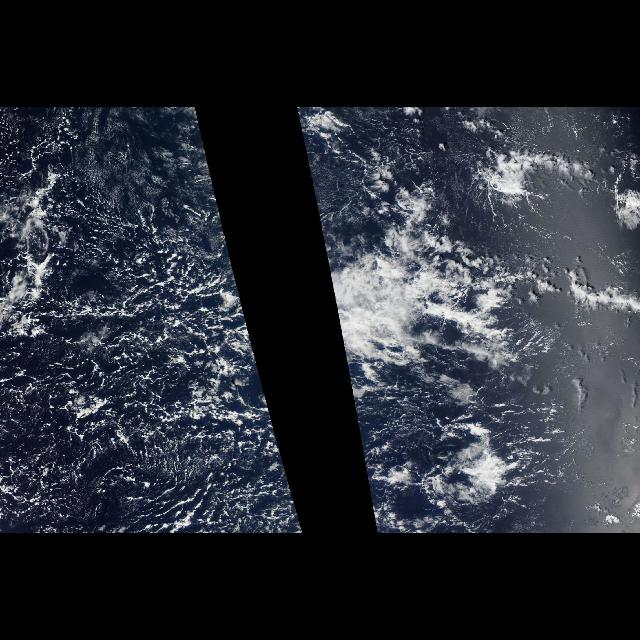Gravel: (1, 113, 297, 533)
